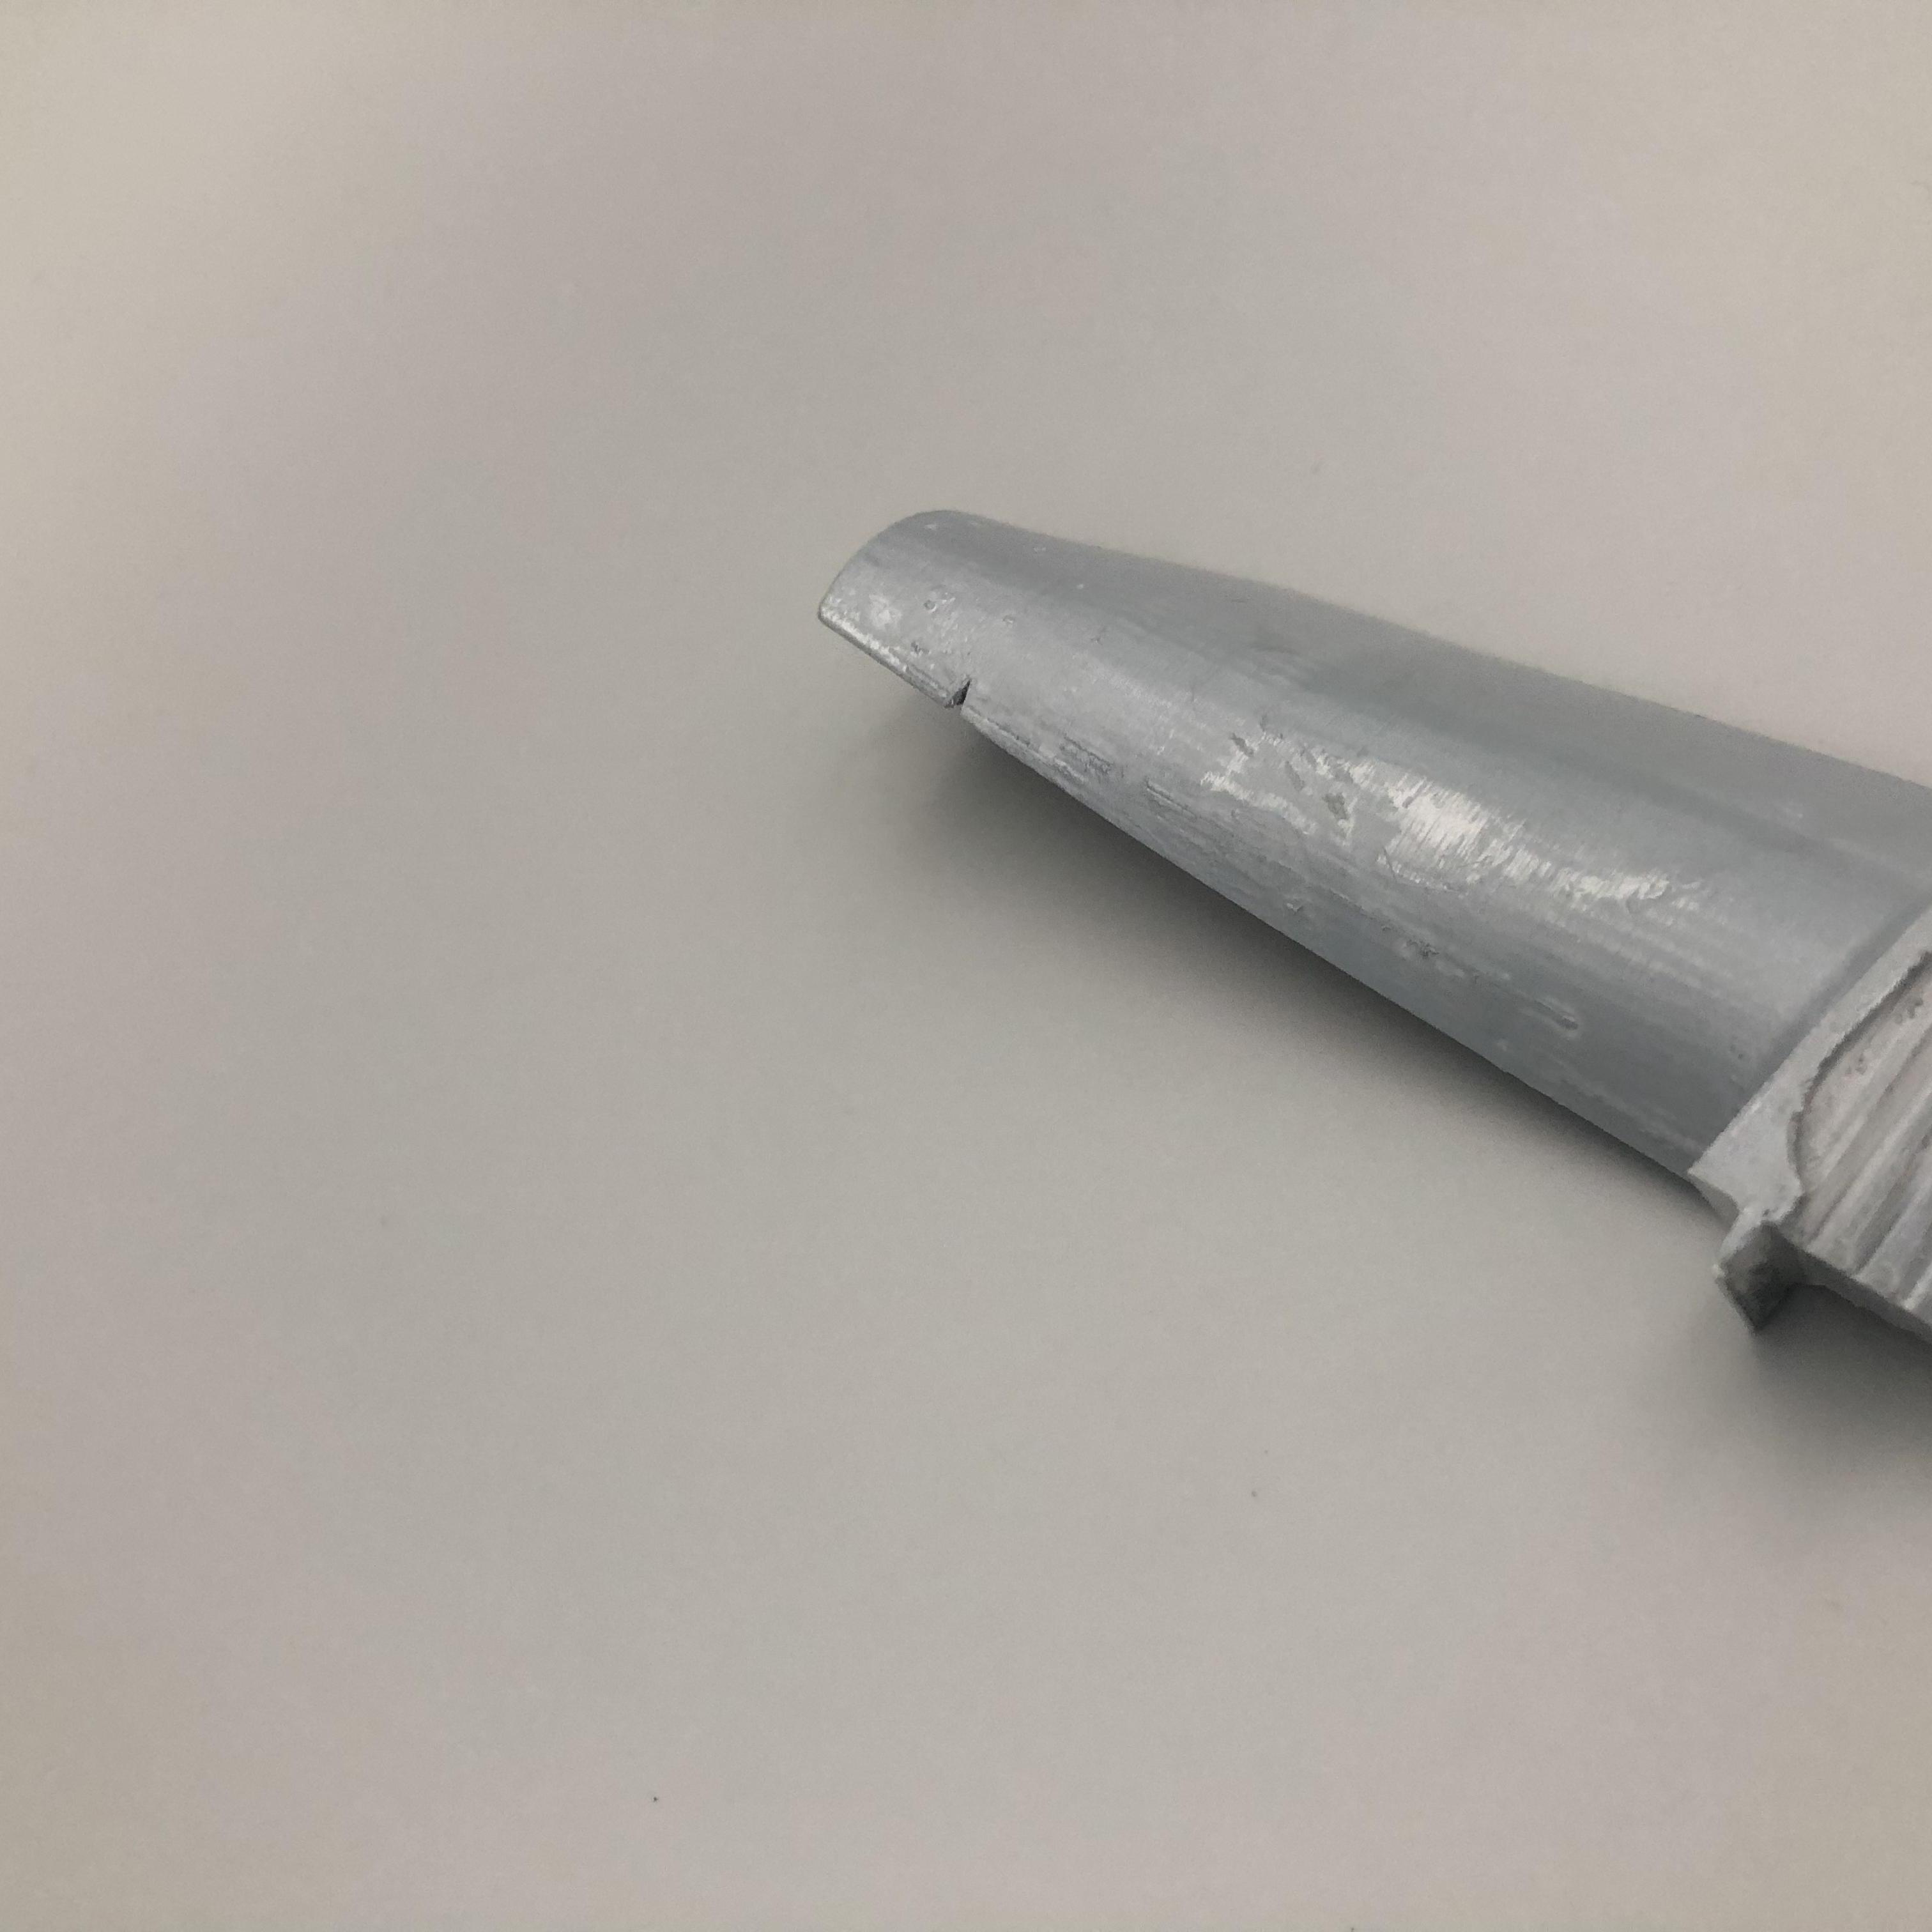groove: (948, 674, 978, 709)
